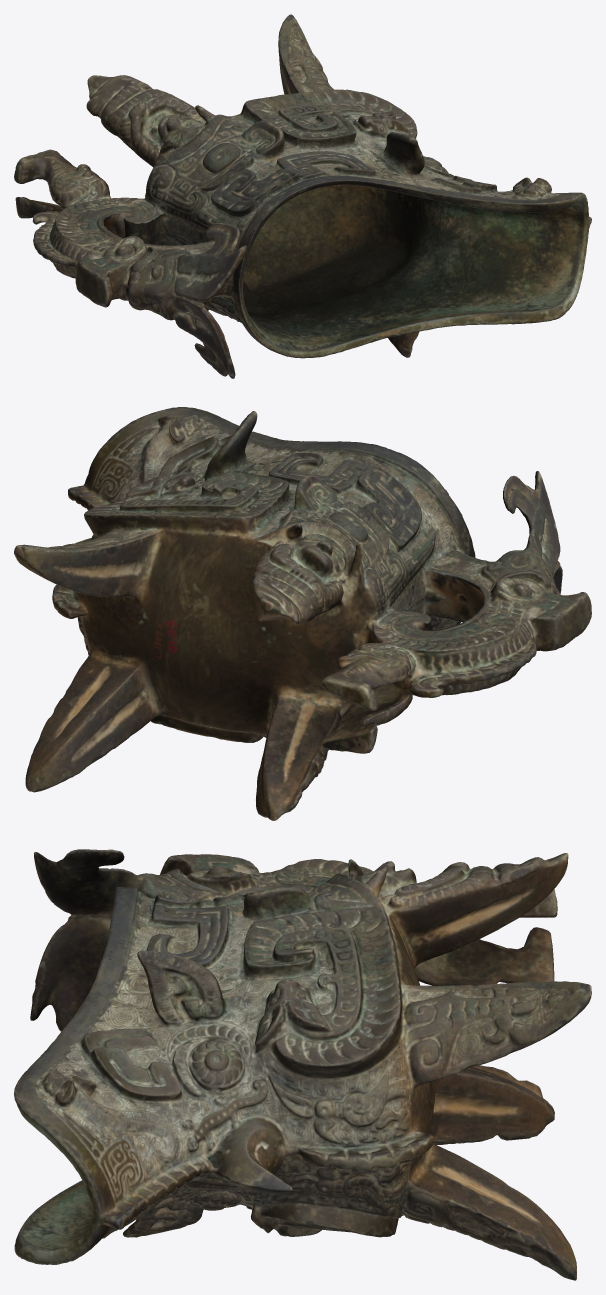
Rendered from ewer-base-200k-2048-medium.glb.
3 views of the same model, one above another, from view 1: azimuth 30°, elevation 25°; view 2: azimuth 150°, elevation 25°; view 3: azimuth 270°, elevation 25° (orthographic). The views are drawn at different scales.
Bounding box in the file's own units: 0.2866 × 0.1288 × 0.22.
1 material, 1 textured.
